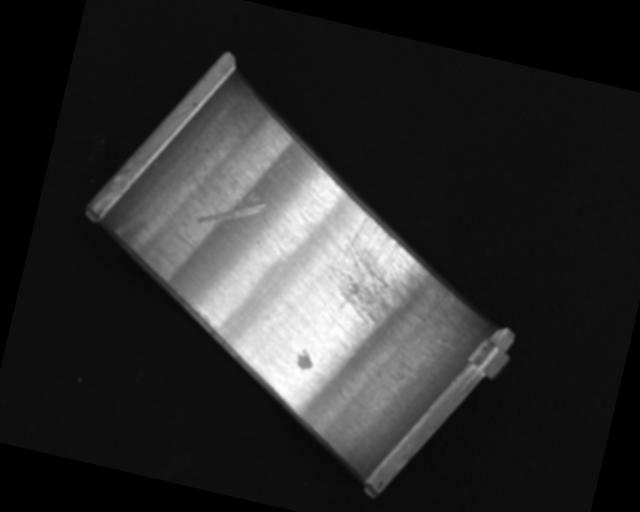bruise: (294, 347, 316, 373)
nick: (196, 182, 268, 237), (252, 151, 294, 236)
scratch: (313, 206, 464, 342)
